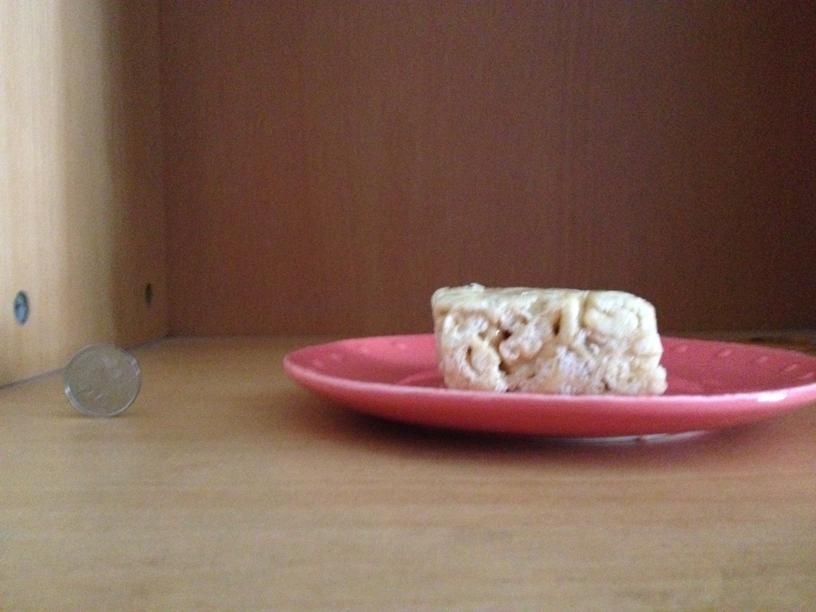coin: (63, 344, 140, 416)
sachima: (429, 285, 665, 397)
